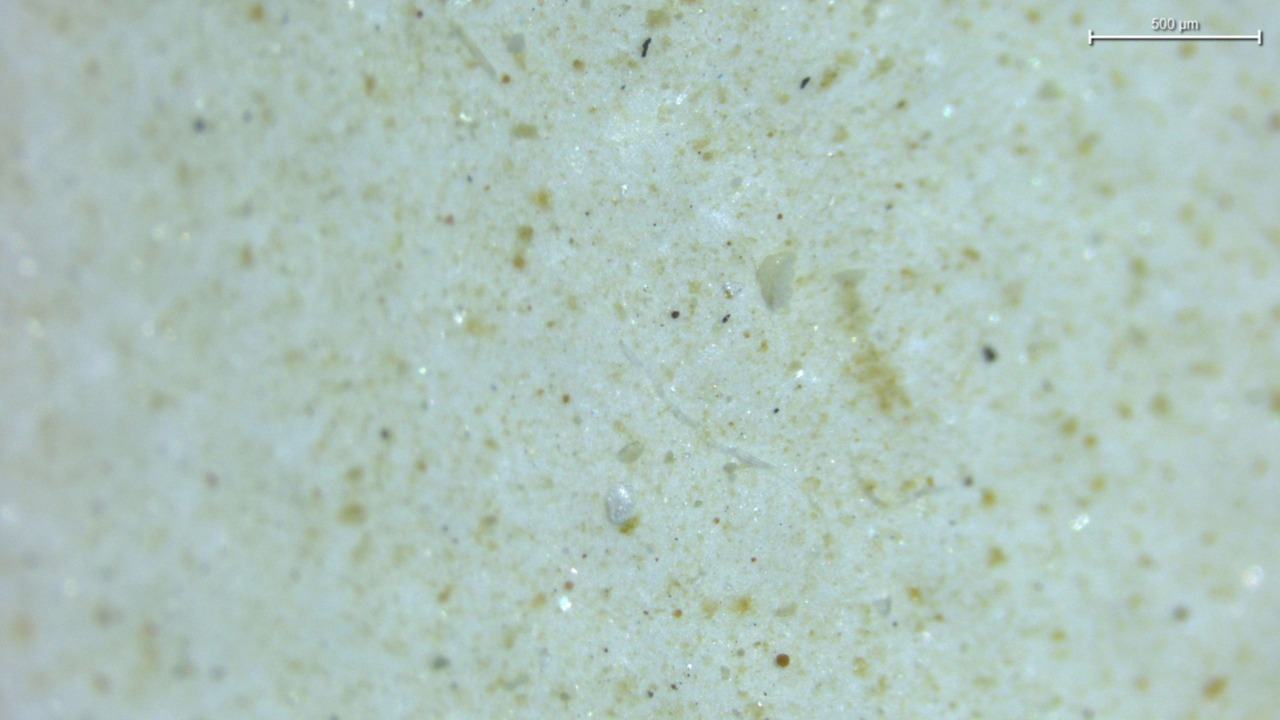microplastic_fragment: (756, 251, 796, 310), (607, 484, 634, 525)
